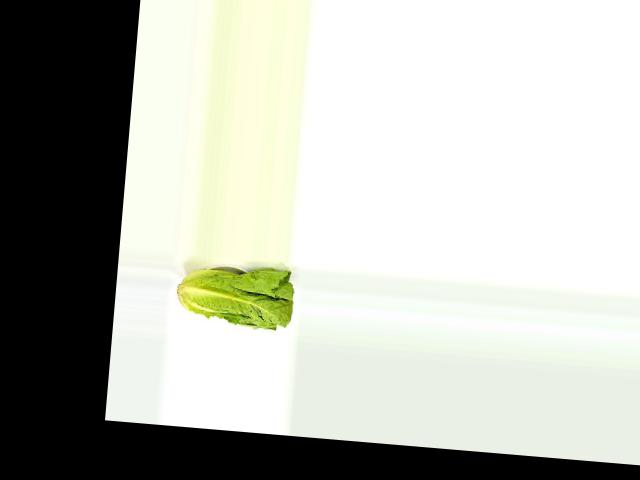lettuce: (173, 259, 296, 334)
